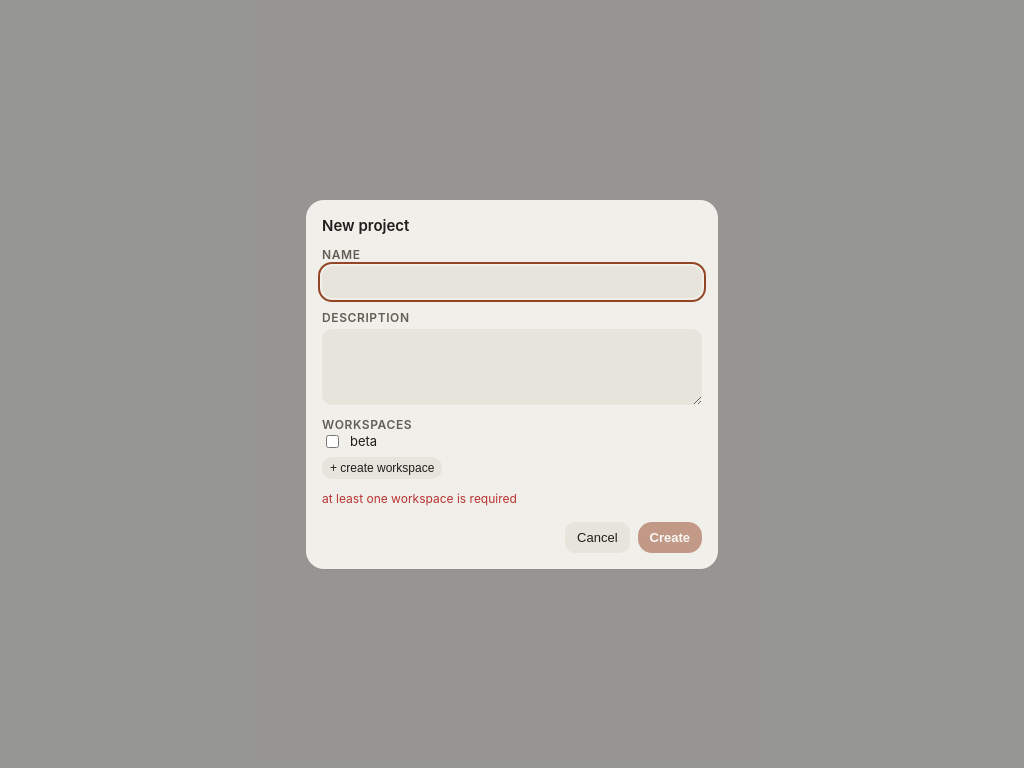
it: CreateProjectDialog › inline "create workspace" failure surfaces the MAPPED CommandError (not a raw message) inline + toast (P-17)
Click the button with test id "create-project-new-workspace" at (382,468), box [322,456,442,478]
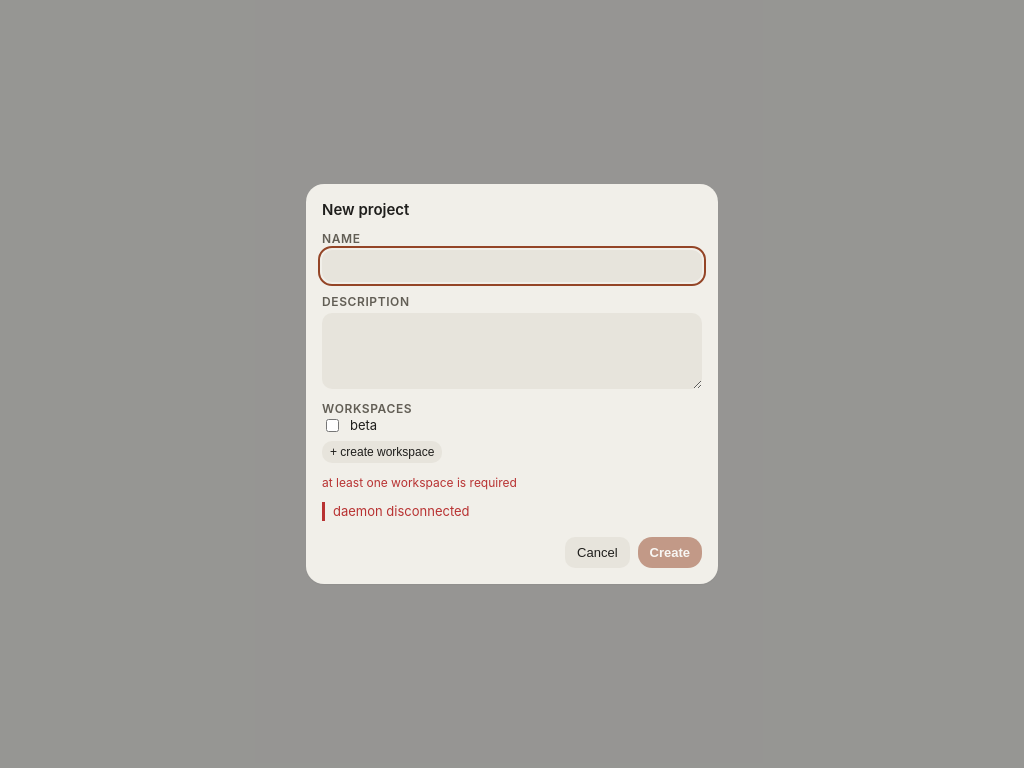
Expected: the message "daemon disconnected" is shown, [322,502,702,521]
Expected: the message with test id "create-project-error" reads "daemon disconnected", [333,503,470,519]
